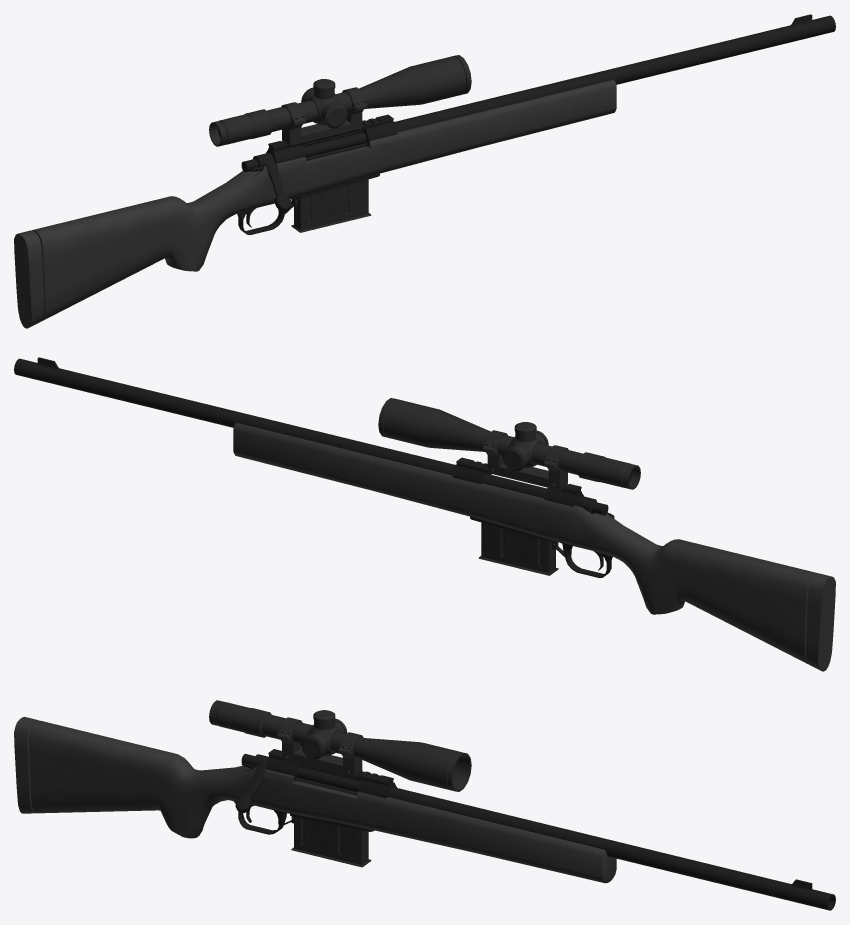
Rendered from m24_bounty_hunter_sniper_rifle.glb.
3 views of the same model, one above another, from view 1: azimuth 30°, elevation 25°; view 2: azimuth 150°, elevation 25°; view 3: azimuth 330°, elevation 25° (orthographic).
Parts seen in each view (by area): view 1: Cube_1, Cylinder.005_7, Cube.004_4, Cylinder.001_6; view 2: Cube_1, Cylinder.005_7, Cube.004_4; view 3: Cube_1, Cylinder.005_7, Cube.004_4, Cylinder.001_6, Cube.003_3.
Boxes of the visible parts, x1,y1,x2,y2 form: Cube_1: (14, 14, 835, 328); Cylinder.005_7: (209, 55, 471, 147); Cube.004_4: (291, 179, 371, 232); Cylinder.001_6: (241, 132, 366, 211); Cube_1: (14, 357, 835, 671); Cylinder.005_7: (378, 398, 640, 490); Cube.004_4: (478, 522, 558, 575); Cube_1: (14, 716, 835, 910); Cylinder.005_7: (209, 700, 471, 791); Cube.004_4: (291, 817, 371, 867); Cylinder.001_6: (235, 754, 360, 812); Cube.003_3: (268, 749, 393, 785).
Bounding box in the file's own units: 13.81 × 2.8 × 1.08.
8 materials, 3 textured.
